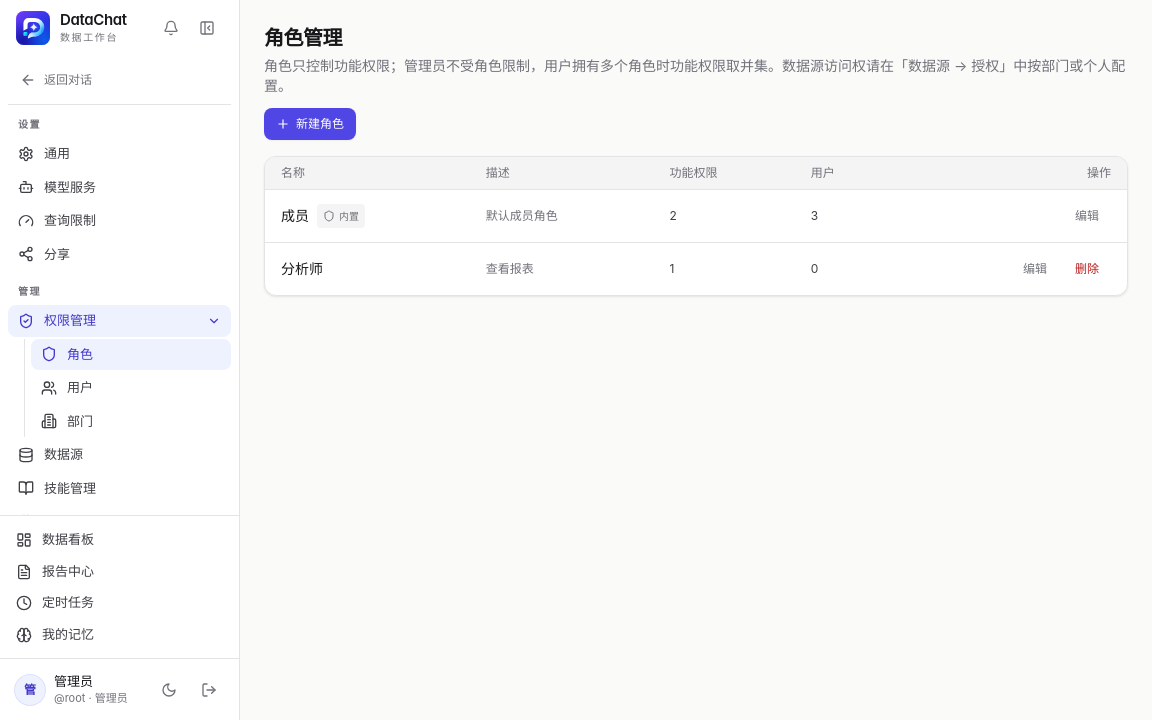
RolesPage › deletes a custom role after confirmation
expect the text "分析师" is shown: met, box [281,259,323,279]
Click the button "删除": (1087, 269) [1063,253,1111,285]
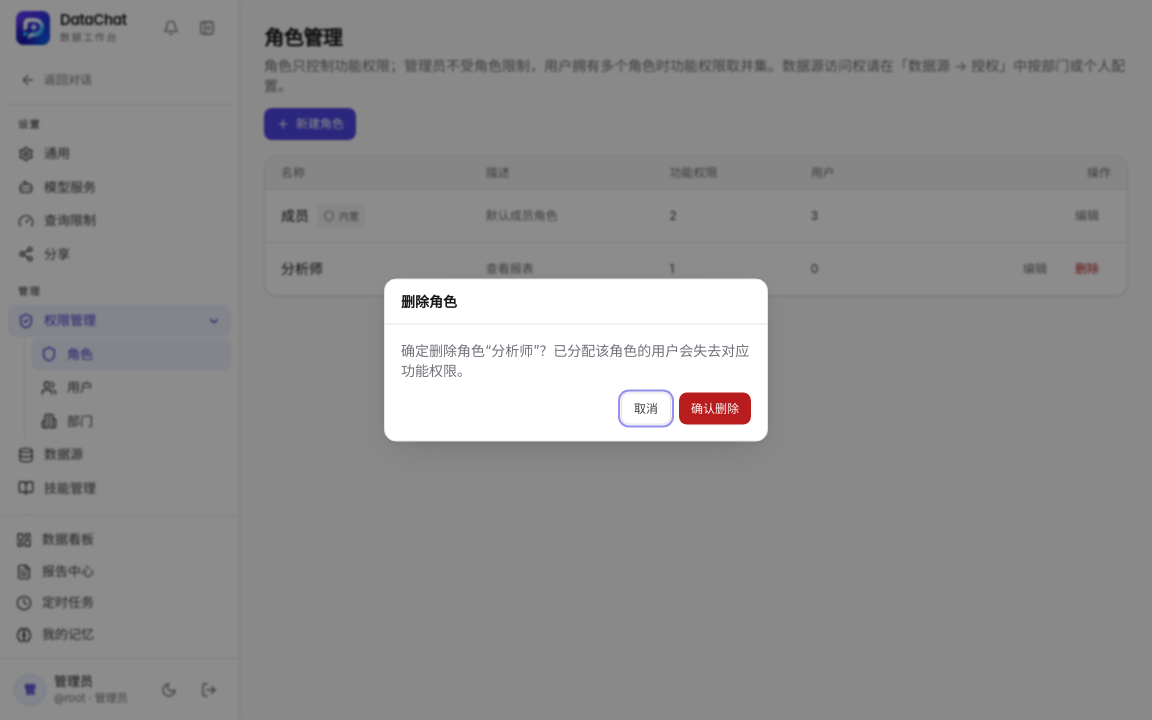
expect the text "确定删除角色“分析师”？已分配该角色的用户会失去对应功能权限。" is shown: met, box [401,340,751,380]
Click the button "确认删除": (715, 408) [679,392,751,424]
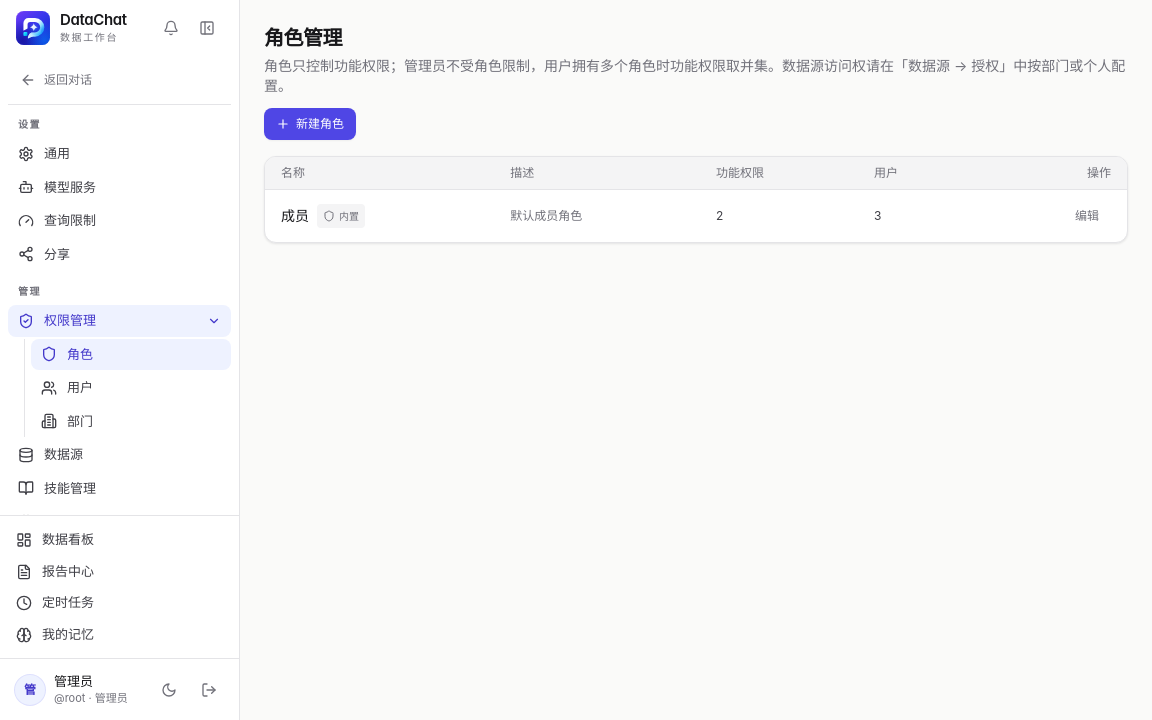
expect the text "分析师" is gone: met
